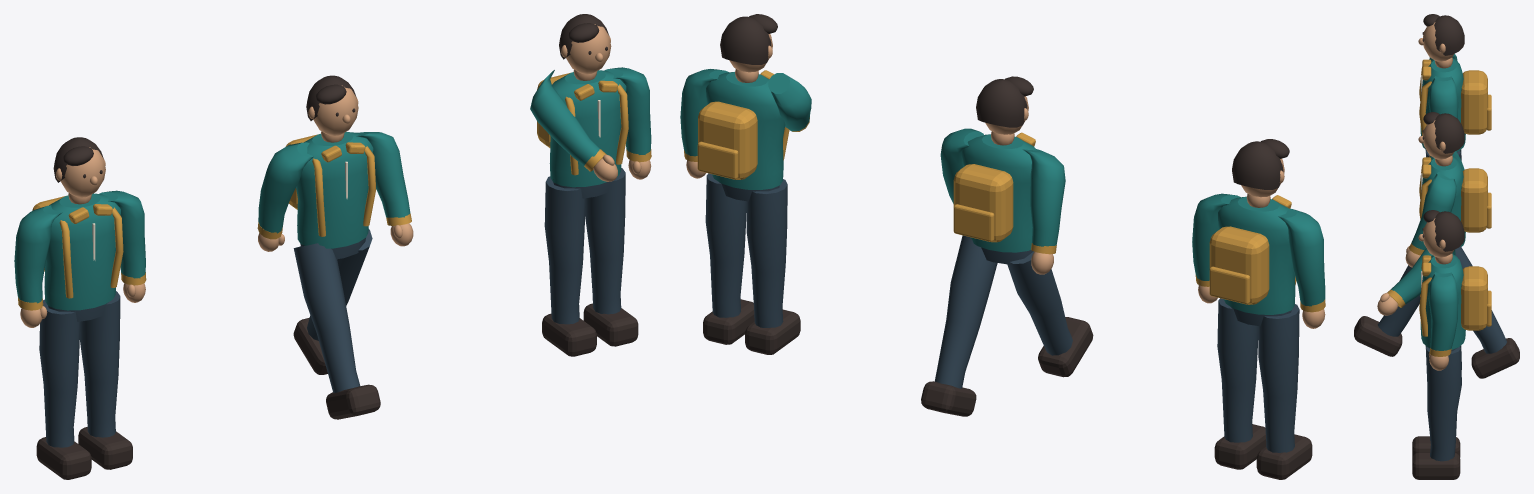
File: actor-poses.glb
3 views of the same model, side by side, from view 1: azimuth 30°, elevation 25°; view 2: azimuth 150°, elevation 25°; view 3: azimuth 270°, elevation 25° (orthographic). The views are drawn at different scales.
Parts seen in each view (by area): view 1: batch-hero-root-teal (×3), batch-right-leg-dark (×3), batch-left-leg-dark (×3), batch-right-arm-teal (×3), batch-left-arm-teal (×3), batch-hero-root-ochre (×3), batch-hero-root-skin (×3), batch-right-leg-hair (×3), batch-left-leg-hair (×3), batch-hero-root-hair (×3); view 2: batch-left-leg-dark (×3), batch-right-leg-dark (×3), batch-hero-root-ochre (×3), batch-hero-root-teal (×3), batch-right-arm-teal (×3), batch-hero-root-hair (×3), batch-left-arm-teal (×3), batch-right-leg-hair (×3), batch-left-leg-hair (×3); view 3: batch-hero-root-ochre (×3), batch-left-arm-teal (×3), batch-left-leg-dark (×2), batch-hero-root-hair (×3), batch-hero-root-teal (×3), batch-left-leg-hair (×2), batch-hero-root-skin (×3), batch-right-leg-hair (×2), batch-right-leg-dark, batch-right-arm-teal, batch-right-arm-skin, batch-left-arm-skin.
Part boxes in pixels (x1,y1,x2,y2): batch-hero-root-teal (×3): [44, 70, 626, 310]; batch-right-leg-dark (×3): [39, 176, 585, 447]; batch-left-leg-dark (×3): [80, 168, 625, 437]; batch-right-arm-teal (×3): [14, 70, 600, 303]; batch-left-arm-teal (×3): [99, 67, 651, 278]; batch-hero-root-ochre (×3): [32, 72, 628, 298]; batch-hero-root-skin (×3): [56, 24, 611, 204]; batch-right-leg-hair (×3): [36, 313, 596, 479]; batch-left-leg-hair (×3): [78, 303, 638, 469]; batch-hero-root-hair (×3): [53, 14, 609, 182]; batch-left-leg-dark (×3): [705, 173, 1258, 442]; batch-right-leg-dark (×3): [746, 179, 1299, 452]; batch-hero-root-ochre (×3): [697, 70, 1296, 304]; batch-hero-root-teal (×3): [706, 72, 1295, 314]; batch-right-arm-teal (×3): [768, 73, 1325, 306]; batch-hero-root-hair (×3): [720, 14, 1289, 189]; batch-left-arm-teal (×3): [680, 69, 1240, 280]; batch-right-leg-hair (×3): [745, 309, 1312, 479]; batch-left-leg-hair (×3): [703, 299, 1266, 469]; batch-hero-root-ochre (×3): [1419, 59, 1491, 336]; batch-left-arm-teal (×3): [1411, 76, 1458, 350]; batch-left-leg-dark (×2): [1425, 246, 1506, 461]; batch-hero-root-hair (×3): [1422, 14, 1464, 251]; batch-hero-root-teal (×3): [1420, 58, 1465, 349]; batch-left-leg-hair (×2): [1412, 338, 1519, 479]; batch-hero-root-skin (×3): [1418, 22, 1453, 264]; batch-right-leg-hair (×2): [1354, 316, 1460, 457]; batch-right-leg-dark: [1377, 265, 1420, 336]; batch-right-arm-teal: [1390, 248, 1455, 303]; batch-right-arm-skin: [1377, 293, 1398, 315]; batch-left-arm-skin: [1428, 352, 1448, 370].
Size of the model in its own units: 3.5 by 1.7 by 1.
